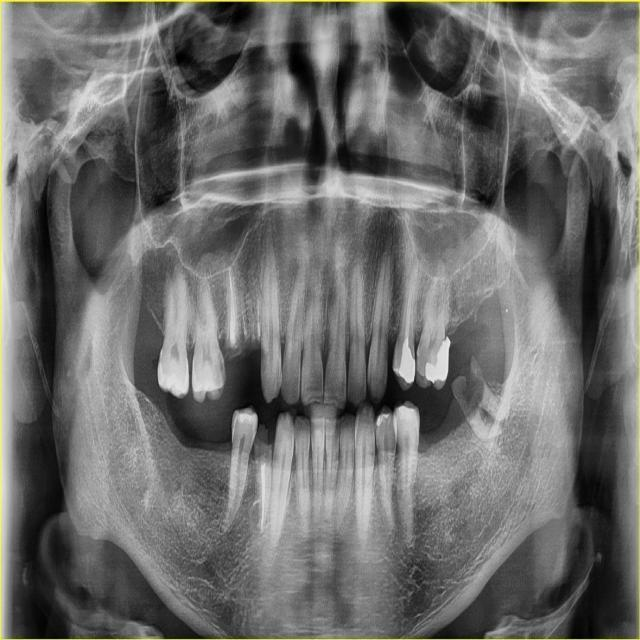72: (240, 289, 263, 356)
74: (229, 266, 235, 344), (405, 286, 413, 339), (261, 461, 266, 534)
NucleOSS Implant: (424, 335, 451, 386), (398, 337, 416, 383)
Sterngold Implant: (448, 355, 488, 418), (253, 427, 273, 464), (413, 342, 432, 379), (209, 350, 224, 396), (220, 337, 244, 361), (261, 344, 268, 375), (158, 350, 163, 368)
